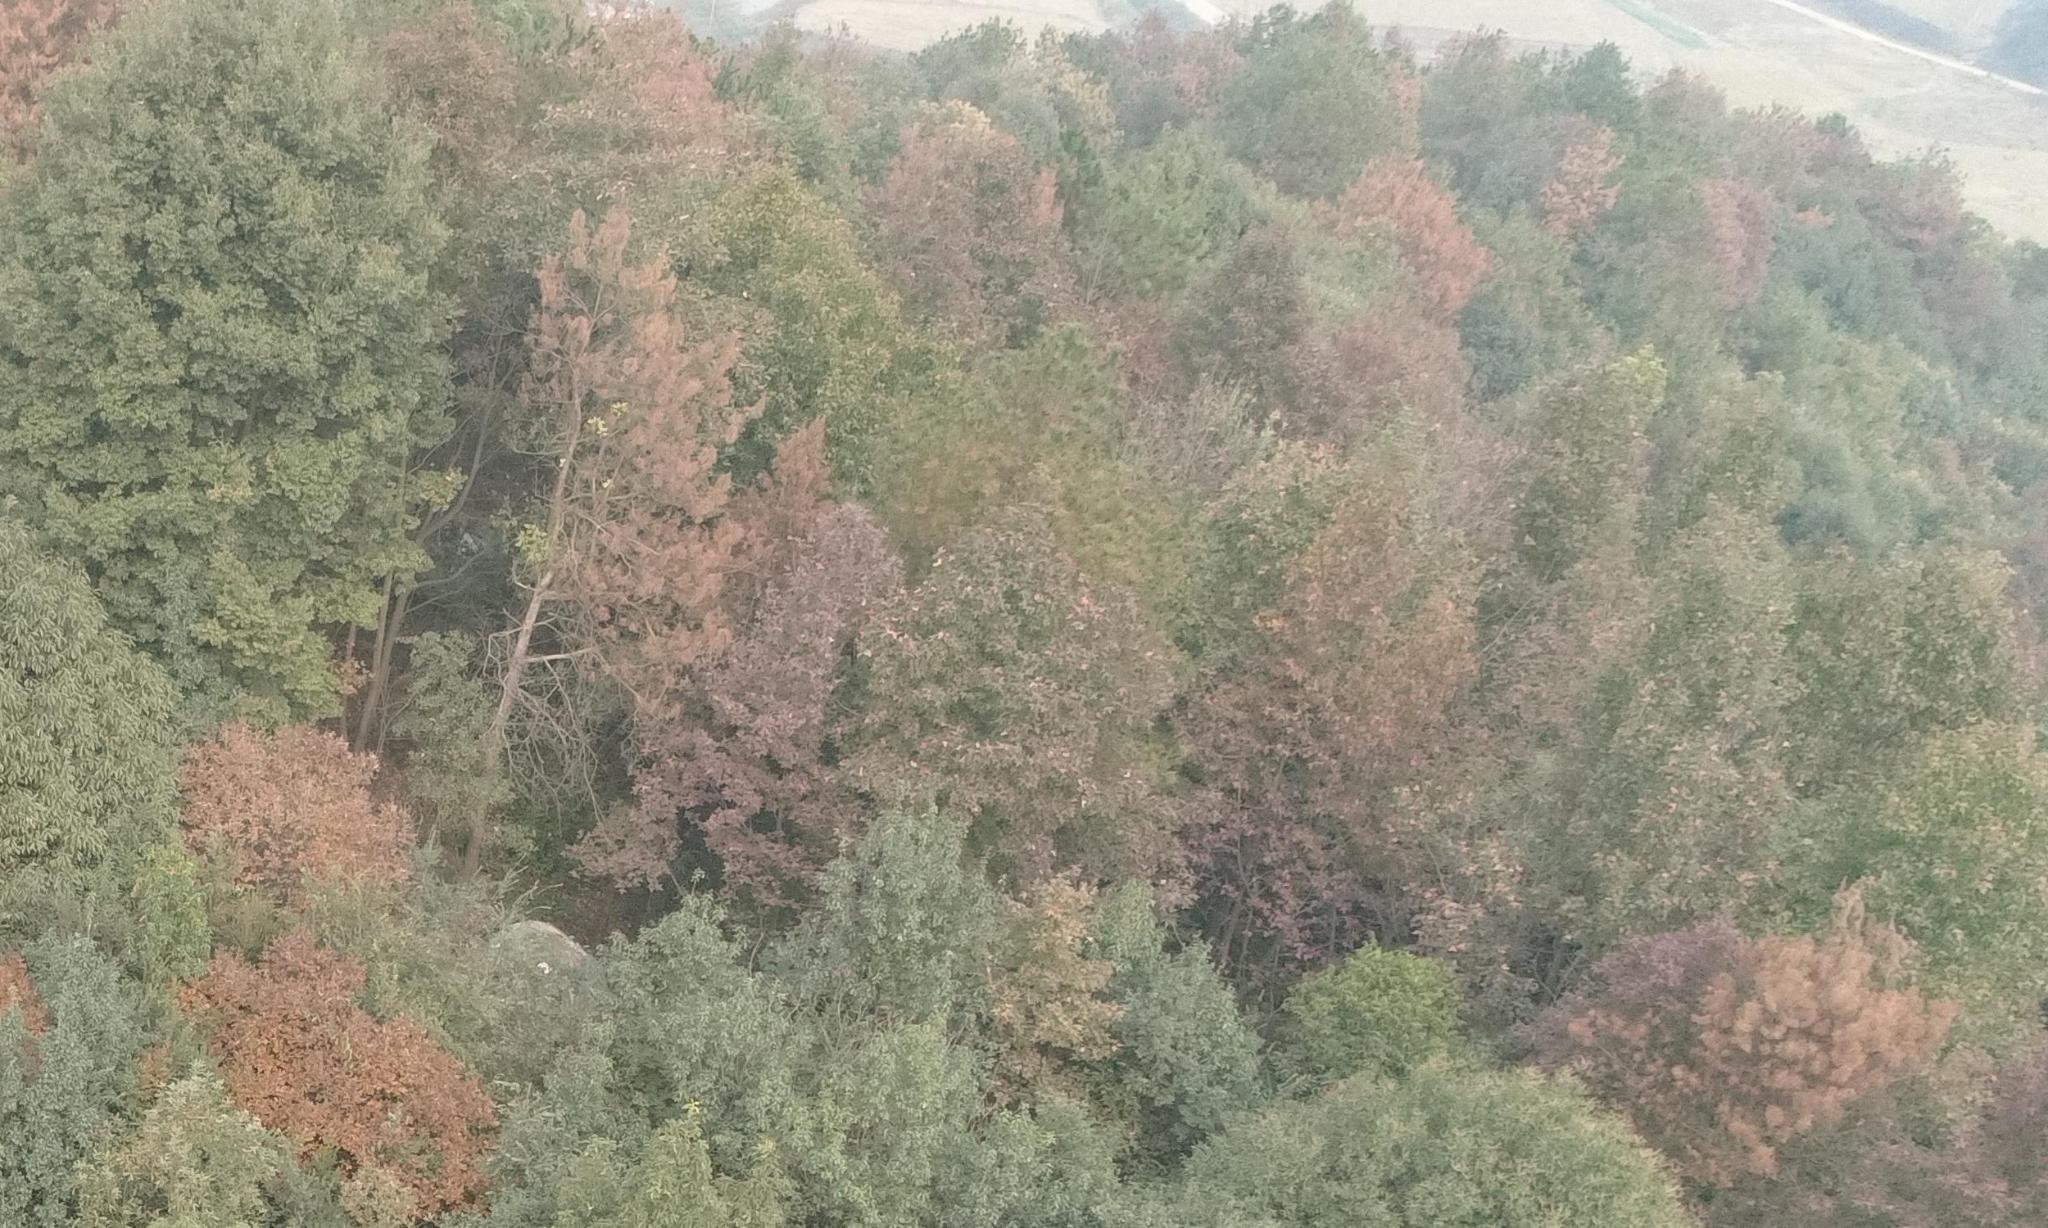heavy: (503, 200, 738, 727), (1666, 887, 1938, 1177), (1333, 149, 1487, 314), (1548, 108, 1623, 251)
